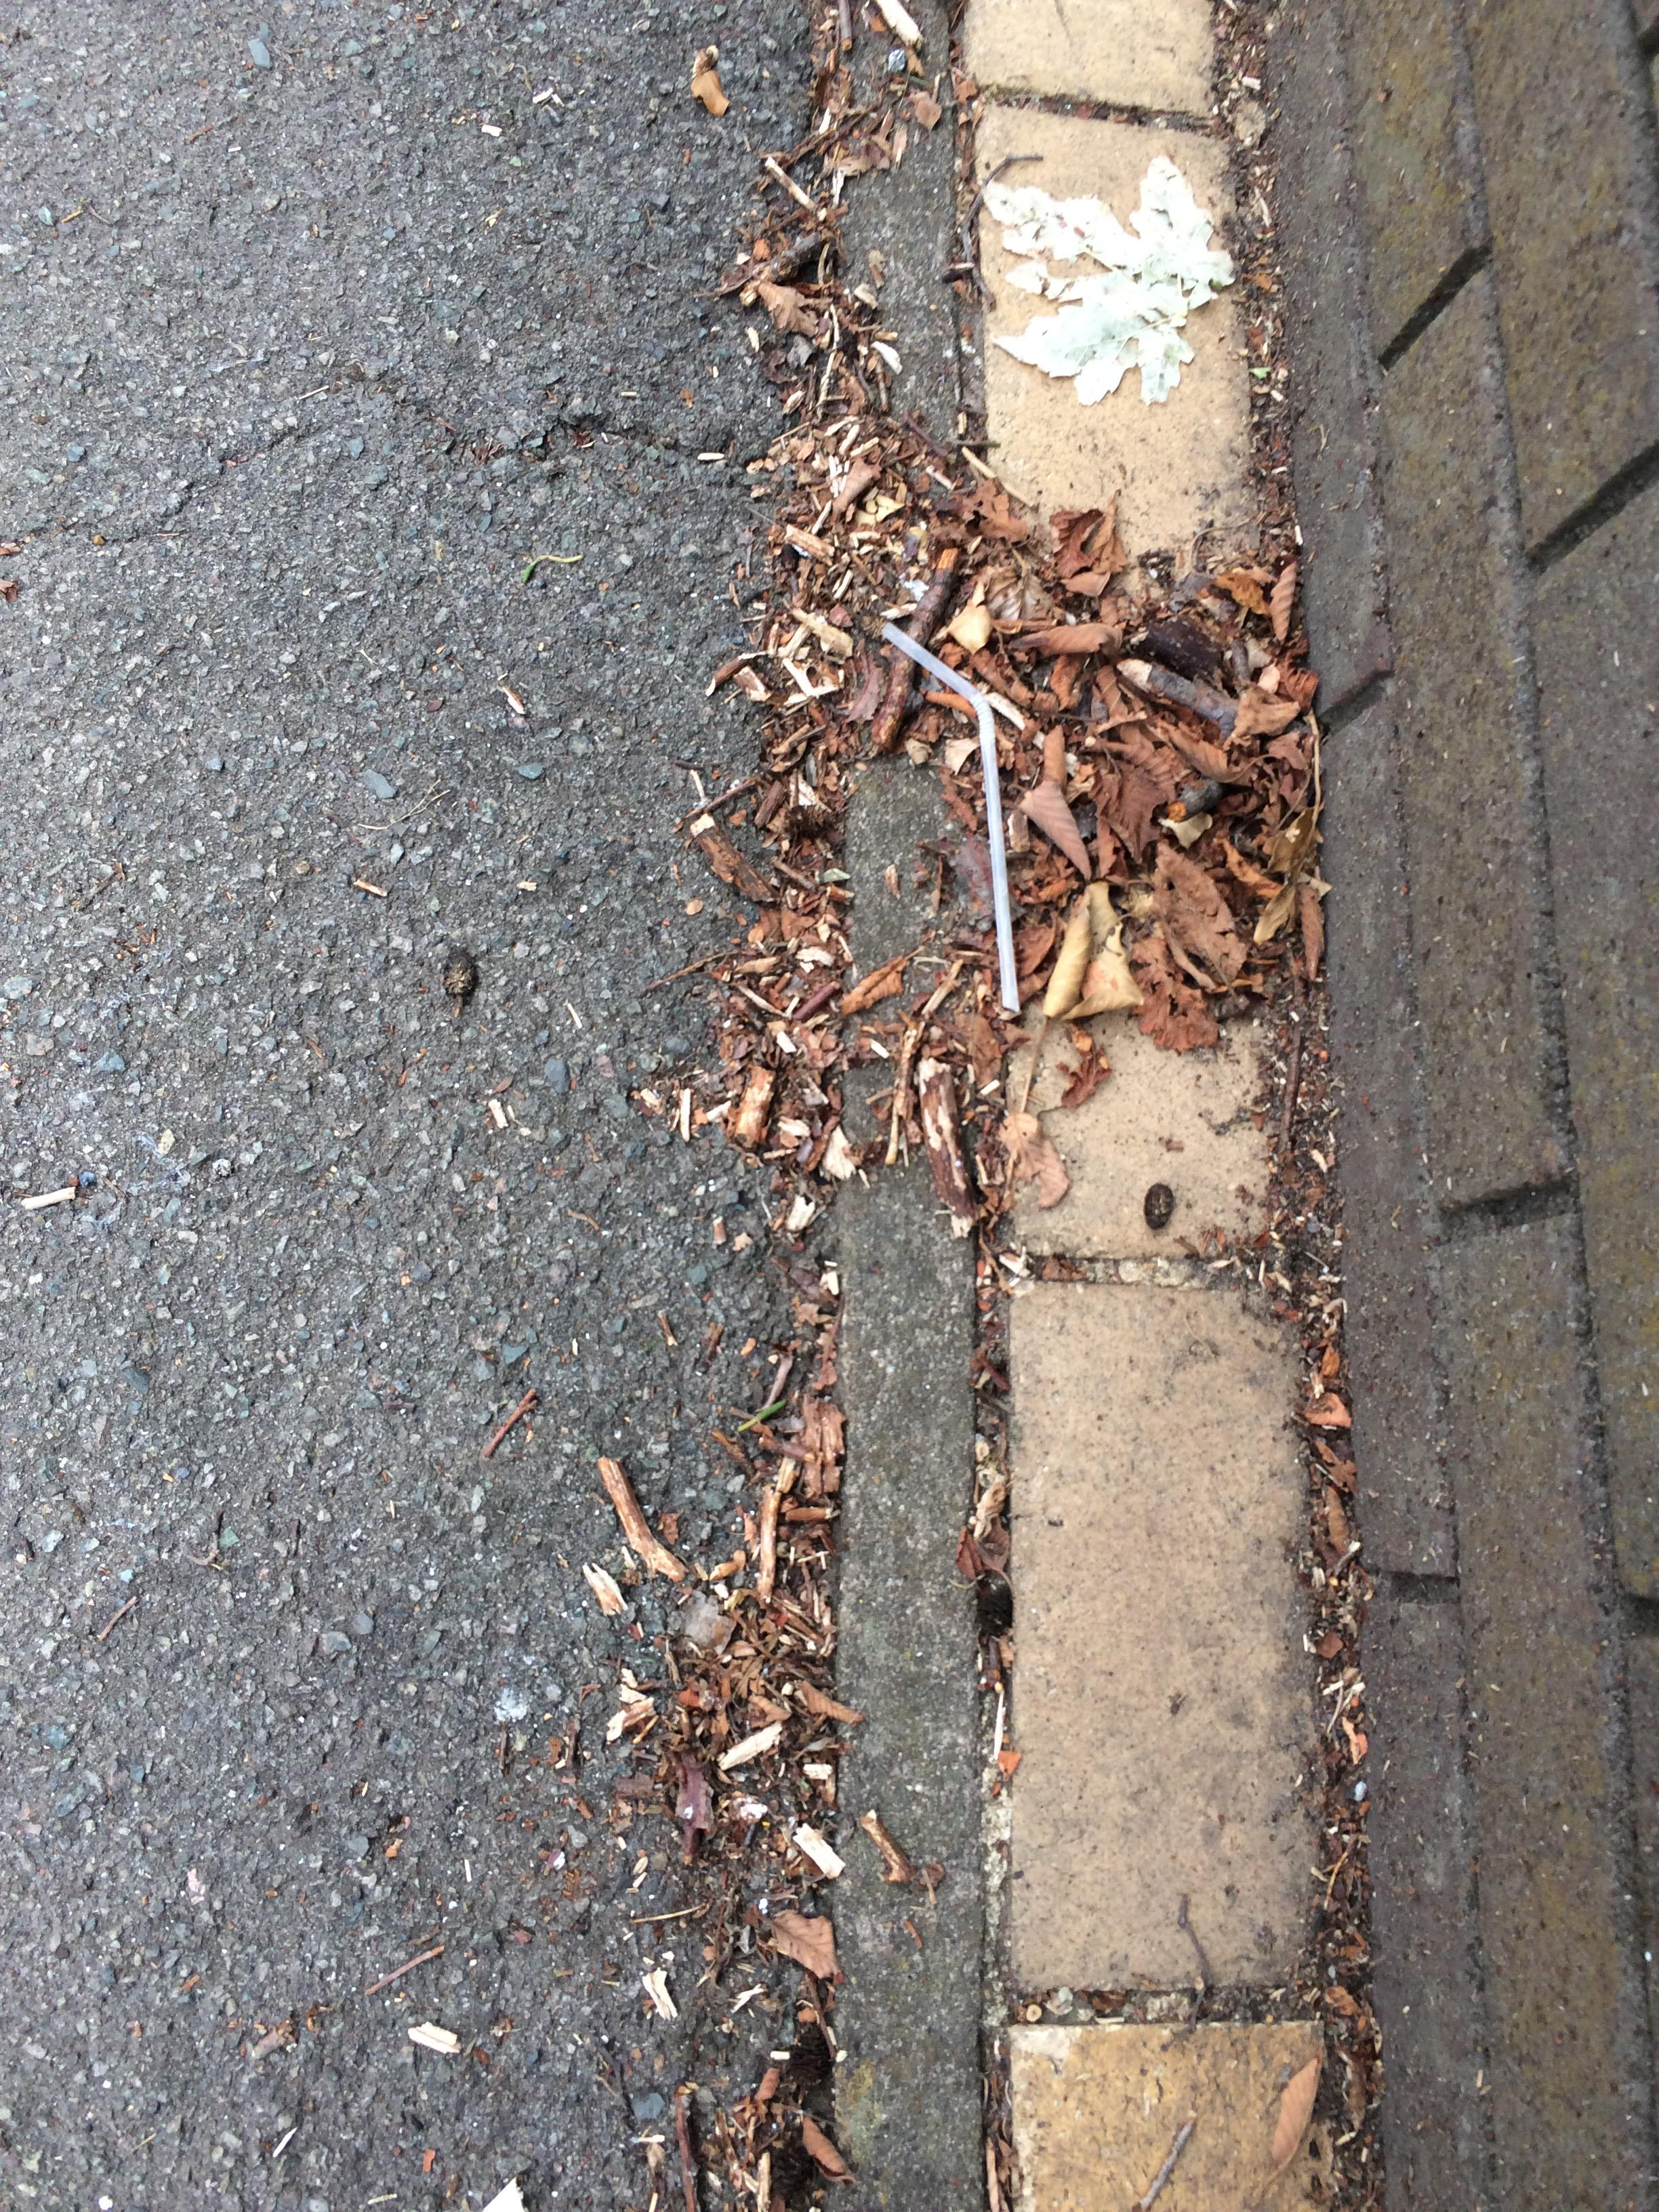Trash: (969, 705, 1025, 1014)
